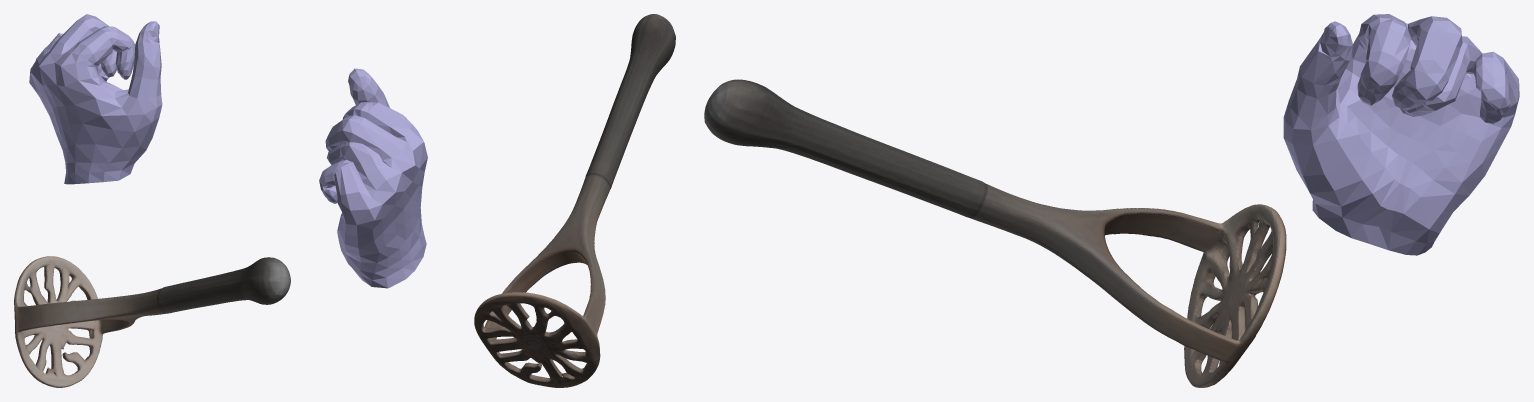
Rendered from frame_0082_source_000082_hand_object.glb.
3 views of the same model, side by side, from view 1: azimuth 30°, elevation 25°; view 2: azimuth 150°, elevation 25°; view 3: azimuth 270°, elevation 25° (orthographic). The views are drawn at different scales.
Visible parts, largest first — view 1: world; view 2: world; view 3: world.
Part boxes in pixels (x1,y1,x2,y2): world: [14, 14, 290, 387]; world: [319, 14, 675, 387]; world: [704, 14, 1519, 387].
Size of the model in its own units: 0.1384 by 0.2098 by 0.3427.
